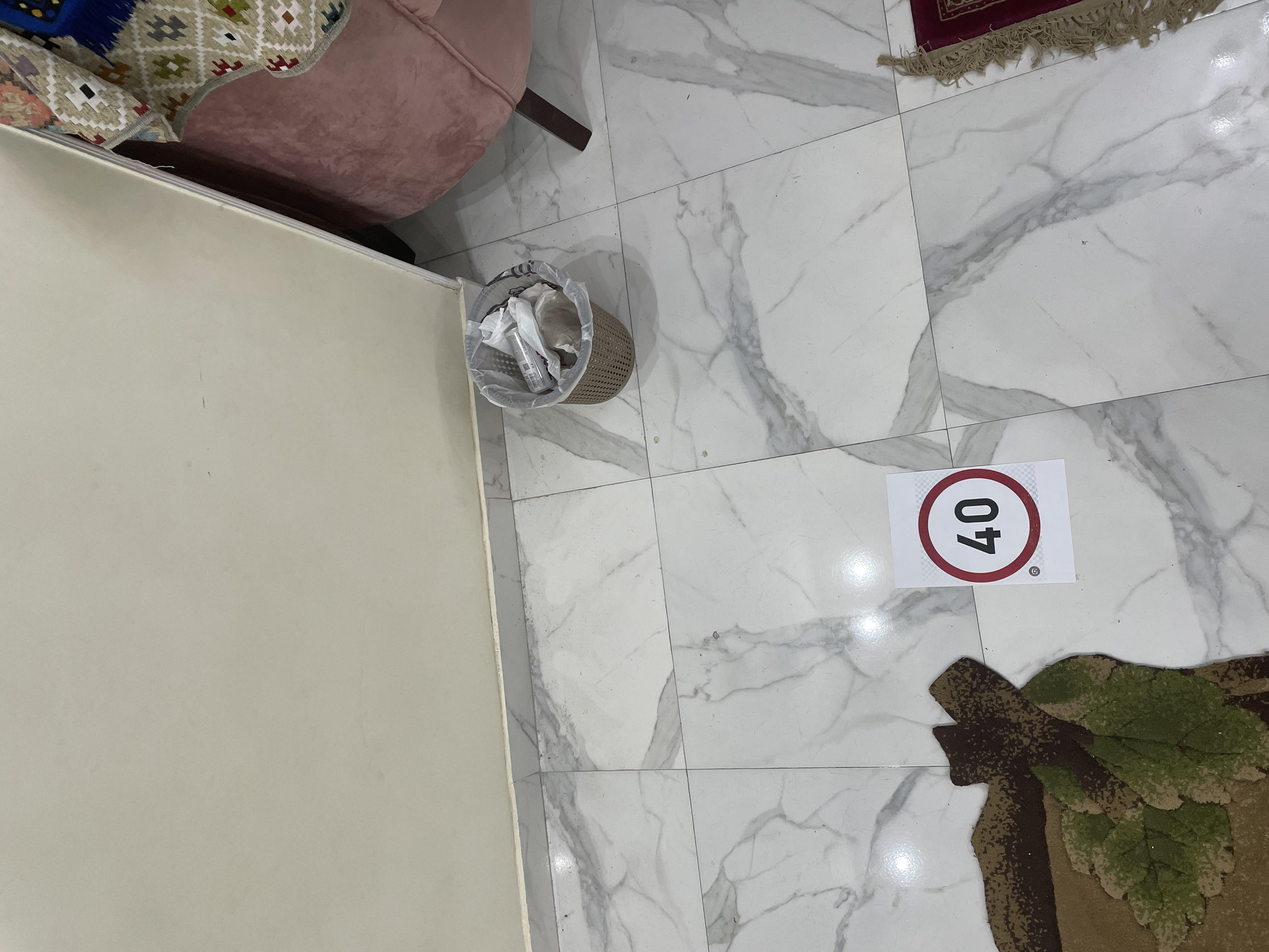40-Speed: (484, 687, 653, 784)
